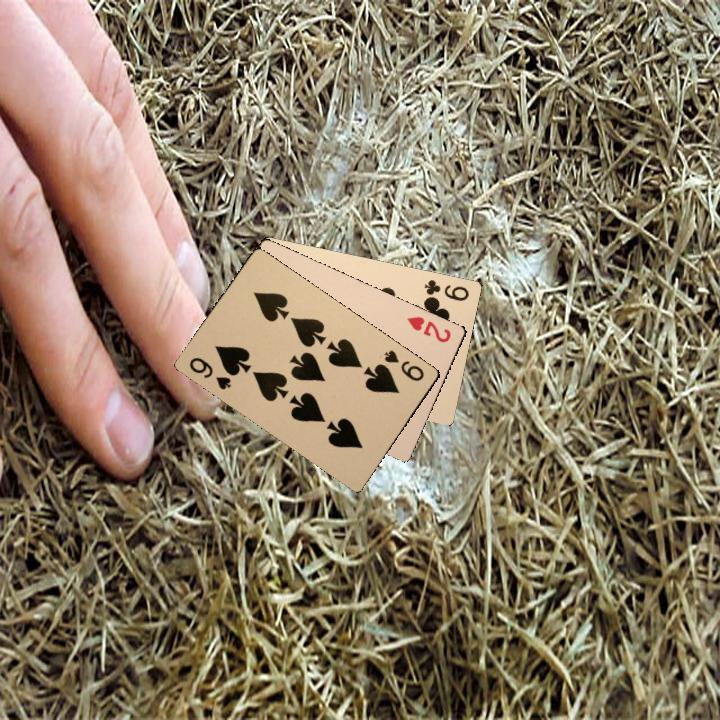2h: (403, 312, 453, 345)
9c: (420, 276, 472, 304)
9s: (185, 353, 234, 392), (380, 346, 427, 384)
